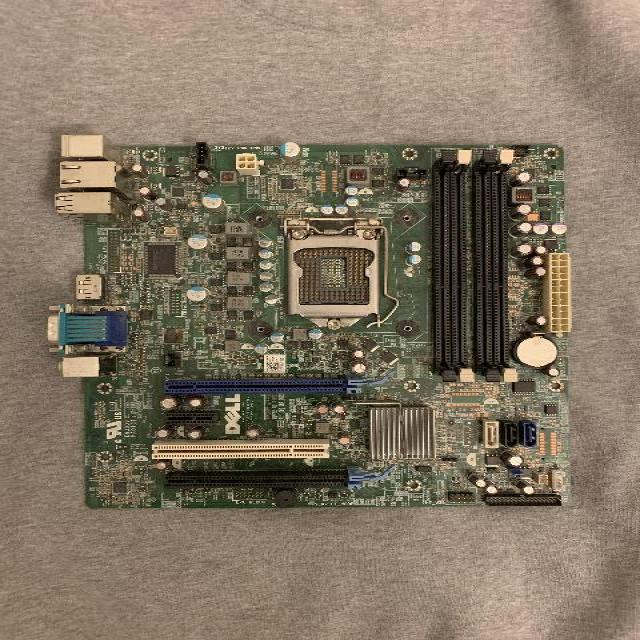Mainboard: (49, 134, 574, 512)
